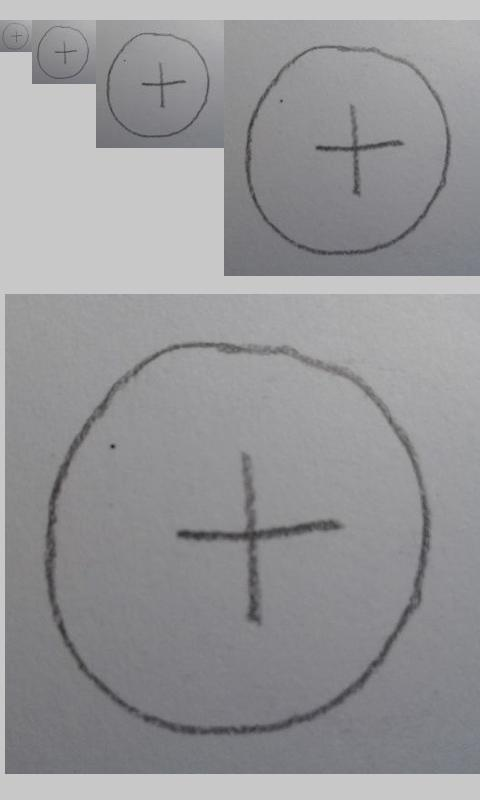button: (45, 341, 433, 737), (245, 44, 452, 256), (106, 32, 211, 138), (36, 26, 89, 80), (2, 22, 29, 50)
